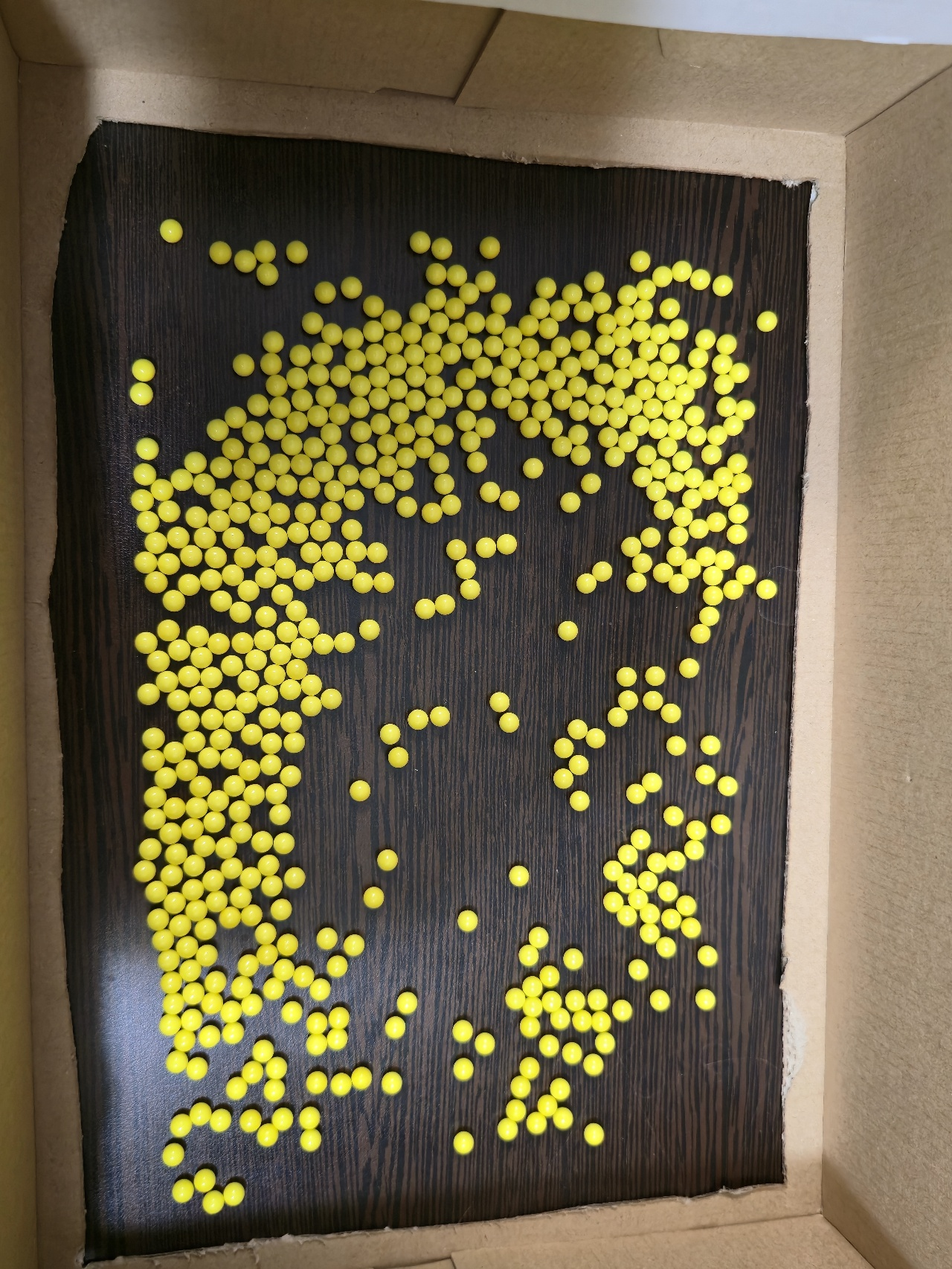yellow_bead: (286, 1006, 298, 1019), (268, 983, 280, 995), (175, 1119, 186, 1132), (215, 1114, 226, 1127), (191, 1062, 202, 1075), (167, 1150, 178, 1162), (171, 1057, 183, 1068), (257, 1045, 268, 1057), (315, 984, 326, 996), (274, 809, 286, 820), (160, 772, 172, 783), (161, 676, 173, 687), (196, 652, 208, 663), (140, 557, 152, 568), (139, 469, 151, 480), (141, 443, 153, 454), (135, 388, 147, 399), (138, 364, 149, 376), (166, 225, 177, 237), (208, 1196, 218, 1209), (229, 1188, 239, 1201), (387, 1077, 397, 1090), (205, 1030, 215, 1043), (458, 1025, 468, 1038), (390, 1021, 400, 1034), (226, 1006, 237, 1017), (527, 981, 538, 992), (278, 964, 289, 975), (242, 960, 253, 971), (661, 942, 672, 953), (260, 928, 271, 939), (169, 897, 180, 908), (151, 886, 162, 897), (670, 856, 681, 867), (257, 836, 268, 847), (149, 791, 160, 802), (271, 788, 282, 799), (262, 690, 273, 701), (243, 675, 254, 686), (237, 637, 248, 648), (141, 637, 152, 648), (291, 605, 302, 616), (277, 589, 288, 600), (205, 574, 216, 585), (150, 537, 161, 548), (142, 516, 153, 527), (213, 515, 224, 526), (234, 507, 245, 518), (136, 495, 147, 506), (156, 484, 167, 495), (190, 457, 201, 468), (459, 1137, 469, 1149), (589, 1128, 599, 1140), (459, 1064, 469, 1076), (567, 1047, 577, 1059), (544, 1040, 554, 1052), (187, 1014, 197, 1026), (402, 997, 412, 1009), (236, 983, 248, 993), (322, 933, 332, 945), (534, 932, 544, 944), (622, 910, 632, 922), (144, 844, 156, 854), (248, 790, 260, 800), (219, 695, 231, 705), (152, 656, 164, 666), (173, 645, 185, 655), (192, 631, 204, 641), (254, 518, 266, 528), (176, 475, 188, 485), (231, 1085, 242, 1095), (516, 1082, 526, 1093), (588, 1059, 598, 1070), (600, 1038, 610, 1049), (617, 1005, 627, 1016), (655, 995, 665, 1006), (570, 995, 580, 1006), (186, 965, 196, 976), (332, 961, 342, 972), (568, 954, 578, 965), (703, 951, 713, 962), (666, 914, 676, 925), (643, 876, 653, 887), (208, 875, 219, 885), (139, 866, 150, 876), (263, 860, 274, 870), (189, 860, 200, 870), (623, 850, 633, 861), (236, 828, 247, 838), (234, 806, 245, 816), (204, 753, 215, 763), (289, 738, 300, 748), (266, 738, 277, 748), (148, 733, 159, 743), (286, 717, 297, 727), (207, 714, 217, 725), (173, 695, 184, 705), (195, 691, 206, 701), (286, 684, 296, 695), (306, 680, 317, 690), (206, 672, 217, 682), (184, 671, 195, 681), (251, 655, 262, 665), (275, 649, 286, 659), (213, 638, 224, 648), (339, 637, 350, 647), (303, 623, 314, 633), (235, 607, 246, 617), (168, 595, 179, 605), (243, 585, 254, 595), (184, 579, 195, 589), (298, 575, 309, 585), (228, 570, 239, 580), (280, 563, 291, 573), (211, 552, 221, 563), (306, 547, 316, 558), (327, 547, 338, 557), (271, 532, 282, 542), (173, 532, 184, 542), (292, 527, 303, 537), (347, 524, 357, 535), (191, 512, 202, 522), (256, 496, 266, 507), (216, 494, 227, 504), (199, 479, 210, 489), (365, 472, 375, 483), (318, 466, 329, 476), (254, 448, 265, 458), (287, 440, 298, 450), (634, 421, 645, 431), (275, 402, 286, 412), (374, 393, 384, 404), (661, 385, 671, 396), (292, 373, 303, 383), (411, 371, 421, 382), (391, 360, 402, 370), (721, 340, 732, 350), (673, 324, 683, 335), (665, 303, 675, 314), (480, 1038, 489, 1050), (511, 993, 520, 1005), (300, 971, 309, 983), (524, 950, 533, 962), (350, 939, 359, 951), (152, 914, 164, 923), (183, 716, 195, 725), (143, 689, 155, 698), (226, 661, 238, 670), (185, 550, 197, 559), (727, 421, 739, 430), (229, 1029, 239, 1039), (164, 1021, 174, 1031), (188, 989, 198, 999), (212, 977, 222, 987), (276, 905, 286, 915), (369, 893, 379, 903), (663, 887, 673, 897), (267, 881, 277, 891), (608, 866, 618, 876), (652, 858, 662, 868), (382, 855, 392, 865), (575, 796, 585, 806), (631, 789, 641, 799), (285, 771, 295, 781), (701, 770, 711, 780), (393, 752, 403, 762), (385, 729, 395, 739), (326, 694, 336, 704), (260, 635, 270, 645), (282, 627, 292, 637), (341, 565, 351, 575), (262, 551, 272, 561), (451, 544, 461, 554), (228, 533, 238, 543), (316, 525, 326, 535), (300, 508, 310, 518), (274, 508, 284, 518), (349, 495, 359, 505), (380, 488, 390, 498), (282, 480, 292, 490), (718, 472, 728, 482), (344, 470, 354, 480), (248, 427, 258, 437), (271, 424, 281, 434), (689, 411, 699, 421), (321, 391, 331, 401), (430, 381, 440, 391), (674, 370, 684, 380), (351, 355, 361, 365), (693, 353, 703, 363), (296, 351, 306, 361), (371, 350, 381, 360), (665, 348, 675, 358), (453, 328, 463, 338), (369, 326, 379, 336), (762, 317, 772, 327), (623, 290, 633, 300), (641, 285, 651, 295), (695, 274, 705, 284), (657, 272, 667, 282), (503, 1124, 512, 1135), (556, 1084, 565, 1095), (273, 1062, 282, 1073), (202, 950, 213, 959), (463, 916, 472, 927), (681, 901, 692, 910), (245, 873, 256, 882), (165, 828, 174, 839), (213, 796, 224, 805), (229, 780, 240, 789), (189, 736, 200, 745), (264, 713, 275, 722), (296, 643, 307, 652), (216, 596, 227, 605), (260, 573, 271, 582), (318, 566, 329, 575), (199, 533, 210, 542), (164, 506, 175, 515), (687, 495, 698, 504), (329, 486, 340, 495), (260, 475, 271, 484), (216, 463, 227, 472), (274, 460, 285, 469), (719, 380, 730, 389), (335, 371, 346, 380), (313, 370, 324, 379), (718, 280, 727, 291), (178, 1186, 186, 1198), (149, 815, 161, 823), (150, 576, 162, 584), (201, 1175, 210, 1185), (556, 1015, 565, 1025), (168, 1000, 178, 1009), (701, 995, 710, 1005), (634, 965, 643, 975), (164, 956, 173, 966), (645, 929, 654, 939), (175, 921, 185, 930), (645, 909, 655, 918), (609, 897, 618, 907), (634, 894, 643, 904), (187, 884, 197, 893), (622, 878, 631, 888), (289, 873, 299, 882), (515, 871, 524, 881), (689, 846, 699, 855), (222, 843, 231, 853), (199, 841, 209, 850), (279, 838, 289, 847), (692, 826, 702, 835), (716, 820, 726, 829), (669, 812, 679, 821), (723, 782, 733, 791), (647, 778, 657, 787), (666, 709, 676, 718), (306, 701, 316, 710), (242, 697, 252, 706), (624, 695, 633, 705), (364, 625, 374, 634), (163, 625, 173, 634), (421, 604, 430, 614), (440, 600, 450, 609), (762, 585, 772, 594), (358, 578, 368, 587), (708, 571, 718, 580), (461, 565, 471, 574), (686, 564, 695, 574), (637, 559, 647, 568), (720, 556, 730, 565), (701, 552, 711, 561), (373, 547, 382, 557), (351, 547, 361, 556), (674, 532, 684, 541), (694, 524, 704, 533), (659, 505, 669, 514), (402, 502, 411, 512), (446, 500, 455, 510), (723, 492, 733, 501), (486, 487, 495, 497), (306, 482, 315, 492), (440, 479, 449, 489), (399, 475, 408, 485), (656, 464, 665, 474), (529, 463, 538, 473), (382, 461, 392, 470), (733, 459, 742, 469), (435, 458, 444, 468), (678, 456, 687, 466), (642, 451, 652, 460), (332, 450, 341, 460), (558, 442, 567, 452), (604, 432, 613, 442), (713, 431, 723, 440), (213, 425, 223, 434), (672, 425, 682, 434), (654, 424, 663, 434), (231, 413, 241, 422), (741, 405, 750, 415), (669, 405, 678, 415), (431, 403, 440, 413), (355, 402, 364, 412), (722, 402, 732, 411), (628, 400, 637, 410), (298, 395, 307, 405), (640, 385, 650, 394), (515, 383, 524, 393), (356, 381, 365, 391), (619, 374, 628, 384), (375, 372, 385, 381), (497, 371, 506, 381), (735, 368, 744, 378), (524, 364, 533, 374), (267, 359, 276, 369), (617, 353, 627, 362), (318, 348, 327, 358), (348, 334, 358, 343), (656, 329, 665, 339), (434, 318, 444, 327), (263, 269, 272, 279), (241, 257, 251, 266), (559, 1113, 567, 1124), (337, 1080, 345, 1091), (336, 1012, 344, 1023), (688, 923, 696, 934), (191, 907, 202, 915), (211, 897, 222, 905), (226, 864, 237, 872), (191, 803, 202, 811), (226, 754, 237, 762), (215, 734, 226, 742), (269, 669, 280, 677), (260, 614, 271, 622), (670, 478, 681, 486), (480, 362, 488, 373), (678, 266, 686, 277), (181, 942, 193, 949), (279, 1116, 288, 1125), (333, 1036, 342, 1045), (593, 995, 602, 1004), (559, 774, 568, 783), (574, 760, 583, 769), (672, 742, 681, 751), (706, 741, 715, 750), (591, 733, 600, 742), (573, 725, 582, 734), (505, 718, 514, 727), (414, 715, 423, 724), (705, 612, 714, 621), (709, 591, 718, 600), (730, 585, 739, 594), (466, 585, 475, 594), (675, 579, 684, 588), (582, 579, 591, 588), (379, 577, 388, 586), (659, 568, 668, 577), (598, 567, 607, 576), (672, 552, 681, 561), (482, 543, 491, 552), (627, 542, 636, 551), (502, 539, 511, 548), (646, 533, 655, 542), (733, 530, 742, 539), (327, 507, 336, 516), (566, 498, 575, 507), (652, 486, 661, 495), (704, 485, 713, 494), (587, 479, 596, 488), (738, 478, 747, 487), (689, 474, 698, 483), (638, 472, 647, 481), (611, 452, 620, 461), (576, 451, 585, 460), (707, 450, 716, 459), (362, 449, 371, 458), (663, 443, 672, 452), (310, 443, 319, 452), (624, 437, 633, 446), (466, 437, 475, 446), (692, 431, 701, 440), (357, 427, 366, 436), (549, 423, 558, 432), (376, 419, 385, 428), (462, 416, 471, 425), (614, 414, 623, 423), (314, 411, 323, 420), (395, 408, 404, 417), (575, 406, 584, 415), (254, 401, 263, 410), (472, 395, 481, 404), (611, 393, 620, 402), (573, 382, 582, 391), (552, 375, 561, 384), (692, 374, 701, 383), (599, 369, 608, 378), (654, 367, 663, 376), (635, 364, 644, 373), (567, 362, 576, 371), (240, 361, 249, 370), (585, 355, 594, 364), (410, 350, 419, 359), (644, 346, 653, 355), (468, 344, 477, 353), (601, 341, 610, 350), (701, 335, 710, 344), (637, 327, 646, 336), (416, 309, 425, 318), (639, 306, 648, 315), (636, 257, 645, 266), (216, 248, 225, 257), (308, 1136, 316, 1146), (533, 1119, 541, 1129), (272, 1087, 280, 1097), (312, 1042, 322, 1050), (247, 729, 257, 737), (613, 713, 623, 721), (563, 626, 573, 634), (741, 571, 751, 579), (711, 518, 721, 526), (733, 510, 743, 518), (237, 486, 247, 494), (383, 441, 393, 449), (574, 430, 582, 440), (327, 428, 335, 438), (649, 404, 657, 414), (449, 392, 457, 402), (681, 389, 689, 399), (448, 349, 456, 359), (327, 330, 337, 338), (621, 311, 629, 321), (527, 1062, 534, 1073), (158, 936, 169, 943), (235, 896, 246, 903), (171, 849, 182, 856), (164, 559, 175, 566), (239, 552, 250, 559), (202, 924, 211, 932), (356, 786, 364, 795), (560, 744, 568, 753), (495, 698, 504, 706), (649, 696, 657, 705), (623, 672, 631, 681), (652, 672, 660, 681), (685, 664, 694, 672), (697, 629, 705, 638), (632, 578, 641, 586), (678, 513, 687, 521), (428, 508, 437, 516), (505, 496, 514, 504), (298, 460, 306, 469), (473, 457, 481, 466), (403, 454, 411, 463), (481, 423, 490, 431), (594, 411, 602, 420), (539, 406, 547, 415), (592, 390, 600, 399), (394, 384, 402, 393), (557, 342, 565, 351), (490, 341, 498, 350), (619, 332, 627, 341), (509, 332, 517, 341), (309, 319, 318, 327), (387, 316, 396, 324), (580, 306, 588, 315), (557, 306, 565, 315), (597, 298, 606, 306), (466, 289, 474, 298), (591, 277, 599, 286), (482, 277, 490, 286), (181, 765, 191, 772), (266, 763, 276, 770), (169, 747, 179, 754), (422, 421, 429, 431), (413, 395, 420, 405), (537, 303, 544, 313), (229, 719, 240, 725), (318, 643, 329, 649), (197, 1111, 205, 1119), (528, 423, 536, 431), (559, 395, 567, 403), (270, 338, 278, 346), (433, 295, 441, 303), (569, 290, 577, 298), (348, 284, 356, 292), (599, 1018, 606, 1027), (209, 1001, 216, 1010), (547, 971, 554, 980), (264, 951, 271, 960), (441, 430, 448, 439), (499, 393, 506, 402), (508, 353, 515, 362), (430, 338, 437, 347), (434, 269, 441, 278), (305, 1114, 315, 1120), (148, 756, 158, 762), (245, 765, 253, 772), (492, 320, 500, 327), (499, 300, 506, 308), (439, 245, 446, 253), (418, 238, 425, 246), (248, 910, 257, 916), (275, 380, 281, 389), (544, 283, 550, 292), (453, 272, 462, 278), (295, 248, 301, 257), (261, 248, 270, 254), (473, 319, 480, 326), (549, 996, 557, 1002), (170, 803, 178, 809), (244, 465, 250, 473), (338, 411, 344, 419), (538, 385, 544, 393), (547, 324, 553, 332), (436, 716, 445, 721), (518, 405, 523, 414), (606, 319, 611, 328), (529, 1025, 535, 1032), (530, 1005, 537, 1011), (251, 999, 257, 1006), (167, 980, 174, 986), (286, 939, 292, 946), (423, 444, 429, 451), (411, 328, 416, 336), (404, 432, 410, 438), (392, 341, 398, 347), (454, 306, 460, 312), (324, 289, 330, 295), (231, 447, 238, 452), (466, 376, 471, 383), (580, 336, 585, 343), (298, 417, 302, 425), (547, 356, 551, 364), (530, 344, 534, 351), (547, 1105, 552, 1110), (251, 1070, 255, 1076), (582, 1018, 586, 1024), (230, 913, 234, 919), (298, 667, 302, 673), (434, 361, 438, 367), (374, 303, 378, 309), (490, 243, 494, 249), (636, 835, 643, 838), (530, 321, 533, 328), (362, 1078, 367, 1082), (315, 1022, 319, 1027), (181, 1041, 185, 1045), (315, 1080, 318, 1085), (174, 873, 176, 877), (217, 820, 219, 823), (248, 1123, 250, 1125), (250, 1120, 251, 1122), (518, 1111, 519, 1112), (215, 823, 216, 824), (209, 822, 210, 823), (205, 786, 205, 788), (721, 359, 721, 360)
